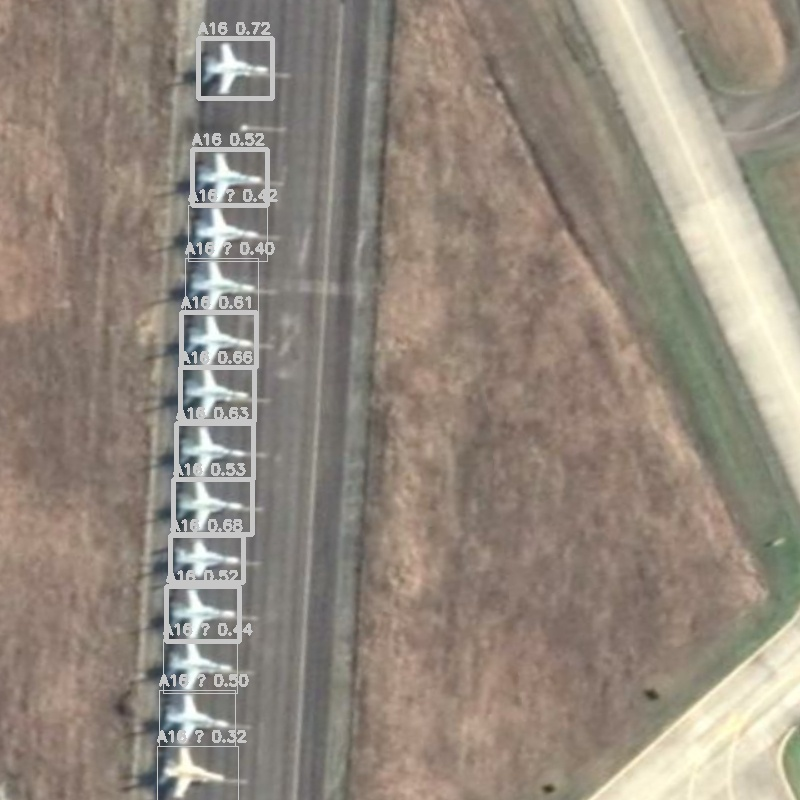A16: (198, 38, 272, 98), (188, 205, 267, 261), (157, 746, 238, 800), (173, 479, 252, 534), (176, 423, 253, 479), (159, 690, 235, 746), (192, 149, 267, 205), (181, 312, 256, 367), (166, 586, 239, 641), (180, 367, 254, 421), (163, 639, 237, 693), (185, 258, 258, 312), (170, 535, 243, 582)
